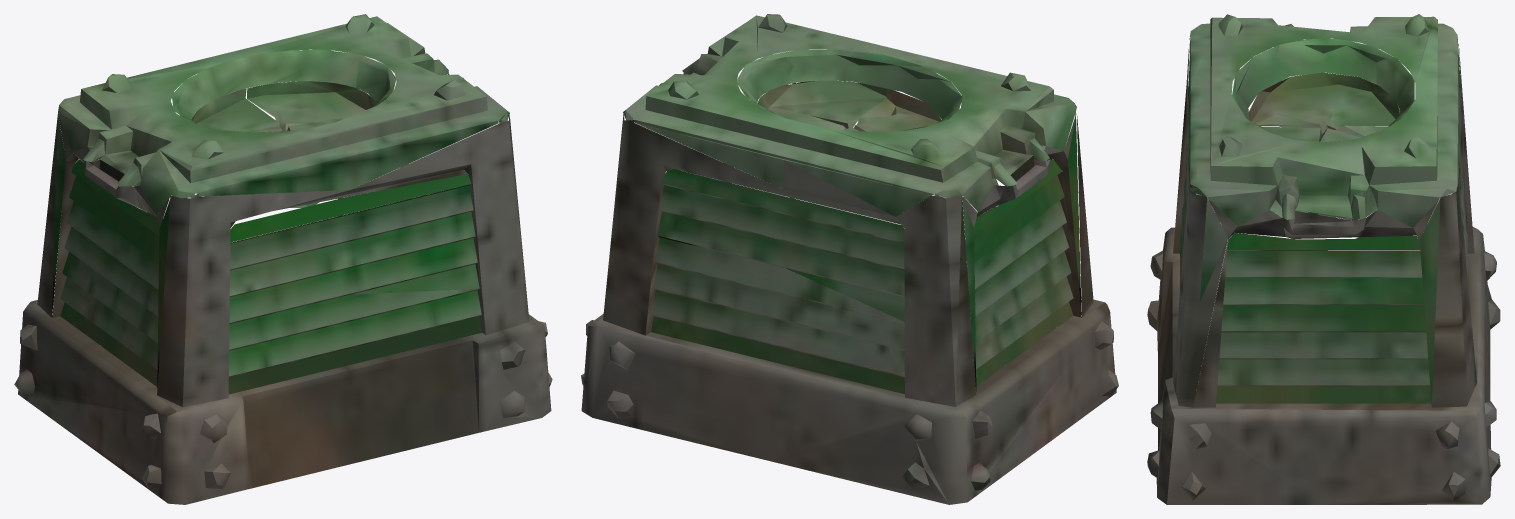
File: buffer-chest.glb
3 views of the same model, side by side, from view 1: azimuth 30°, elevation 25°; view 2: azimuth 150°, elevation 25°; view 3: azimuth 270°, elevation 25° (orthographic). The views are drawn at different scales.
Parts seen in each view (by area): view 1: body, anim_hatch_e, anim_hatch_w; view 2: body, anim_hatch_e, anim_hatch_w; view 3: body, anim_hatch_w, anim_hatch_e.
Boxes of the visible parts, left/top/right/bottom form: body: left=14, top=14, right=552, bottom=504; anim_hatch_e: left=247, top=81, right=375, bottom=131; anim_hatch_w: left=191, top=88, right=282, bottom=132; body: left=581, top=14, right=1118, bottom=504; anim_hatch_e: left=757, top=80, right=886, bottom=129; anim_hatch_w: left=844, top=88, right=941, bottom=132; body: left=1147, top=14, right=1500, bottom=504; anim_hatch_w: left=1249, top=72, right=1399, bottom=134; anim_hatch_e: left=1262, top=125, right=1388, bottom=142.
Size of the model in its own units: 1.01 by 0.7617 by 0.7356.
Materials: 1 (1 with a texture image).
